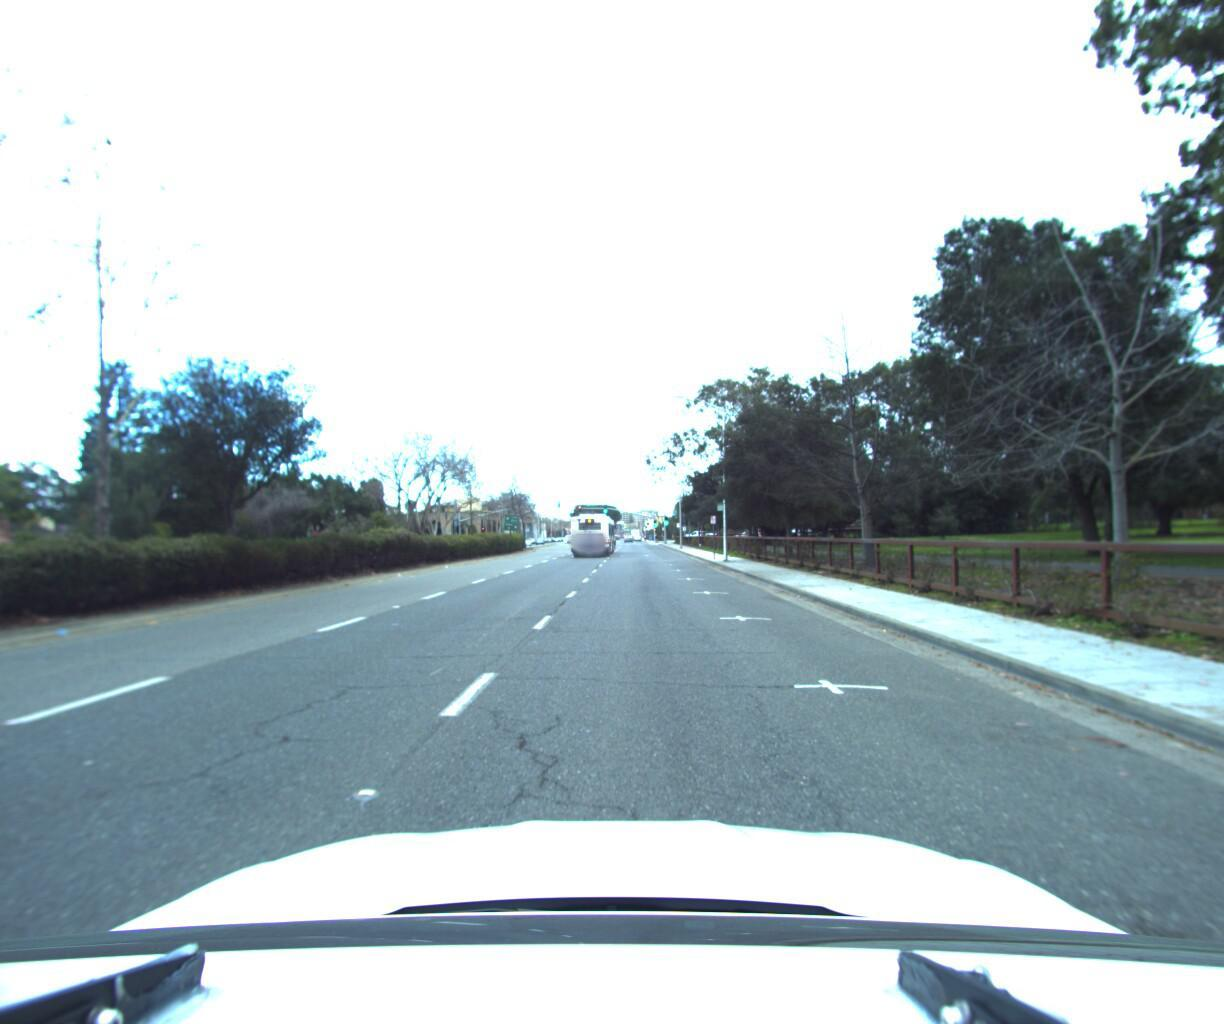bus: (570, 507, 618, 555)
